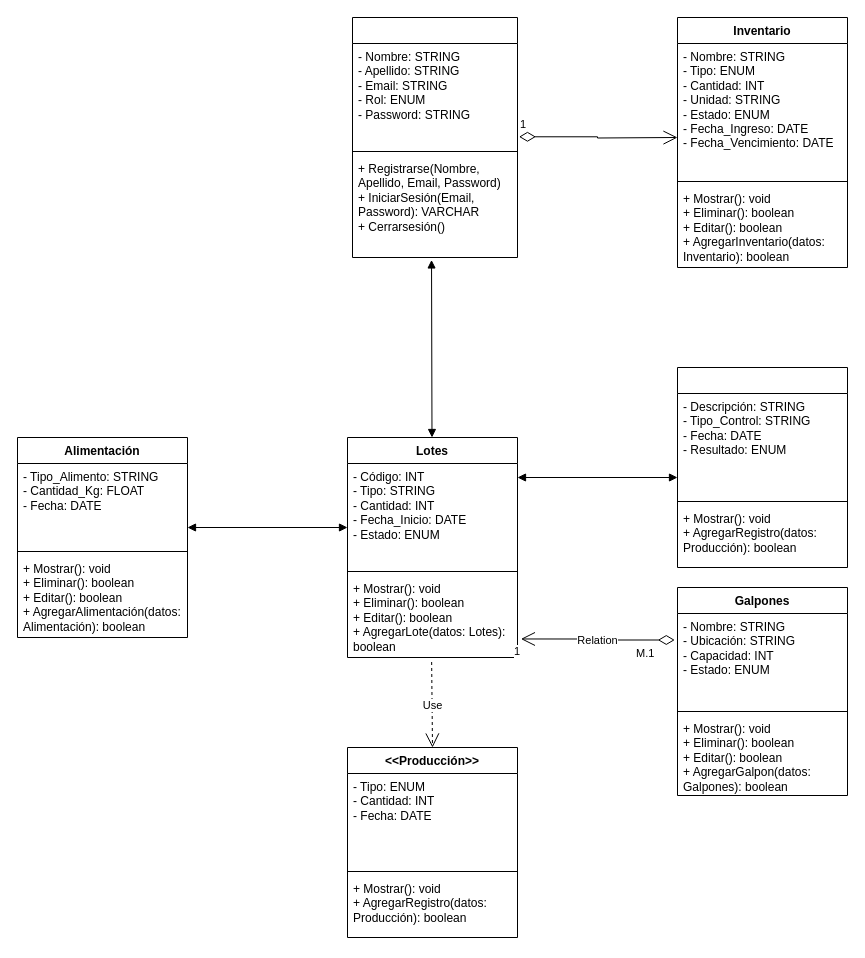
The diagram is 865 pixels wide and 958 high, and some of its shapes have lost their labels. The box of each missing label's shape, as (x1, y1, x2, y2) in pixels:
<<Salud>>: (676, 366, 848, 568)
Usuario: (352, 16, 518, 258)
